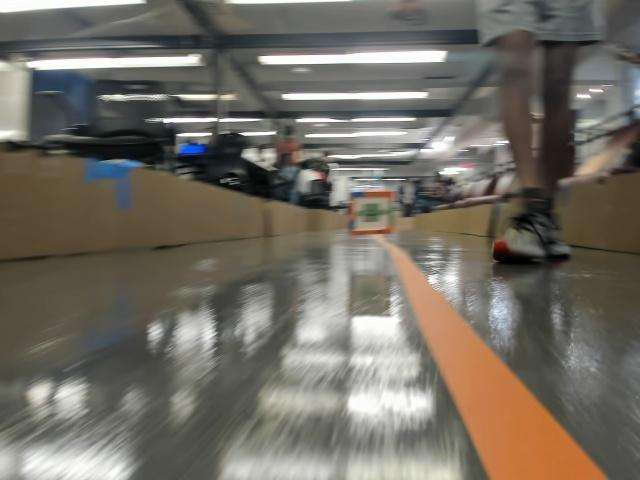Go Around: (356, 200, 386, 221)
